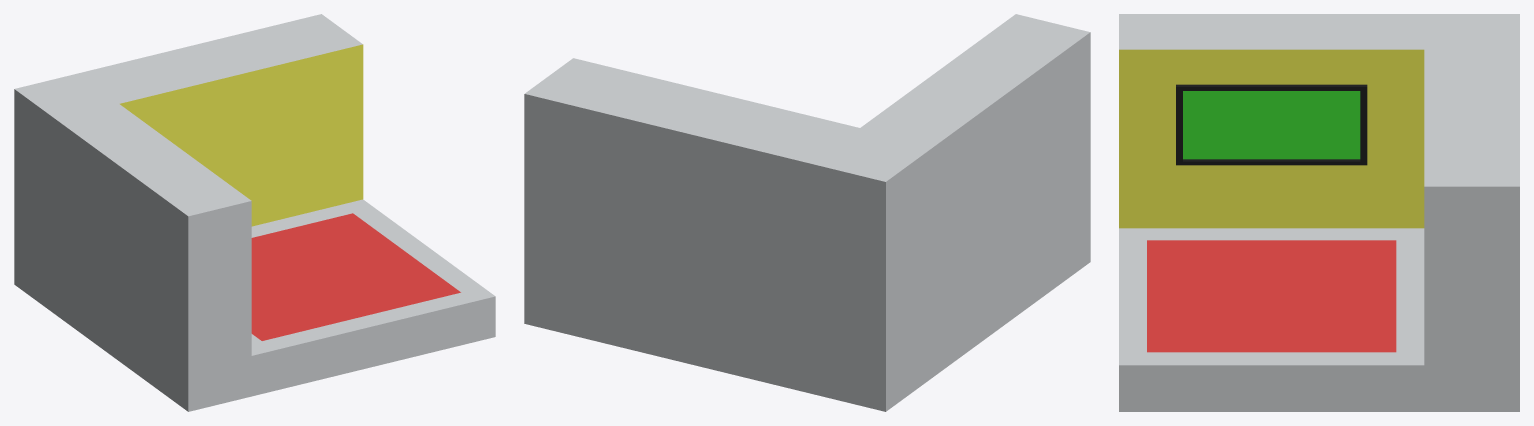
File: room.glb
3 views of the same model, side by side, from view 1: azimuth 30°, elevation 25°; view 2: azimuth 150°, elevation 25°; view 3: azimuth 270°, elevation 25° (orthographic). The views are drawn at different scales.
Parts seen in each view (by area): view 1: Room; view 2: Room; view 3: Room.
Boxes of the visible parts, x1,y1,x2,y2 form: Room: [14, 14, 495, 411]; Room: [524, 14, 1090, 411]; Room: [1119, 14, 1519, 411].
Bounding box in the file's own units: 11.7 × 7.12 × 11.48.
